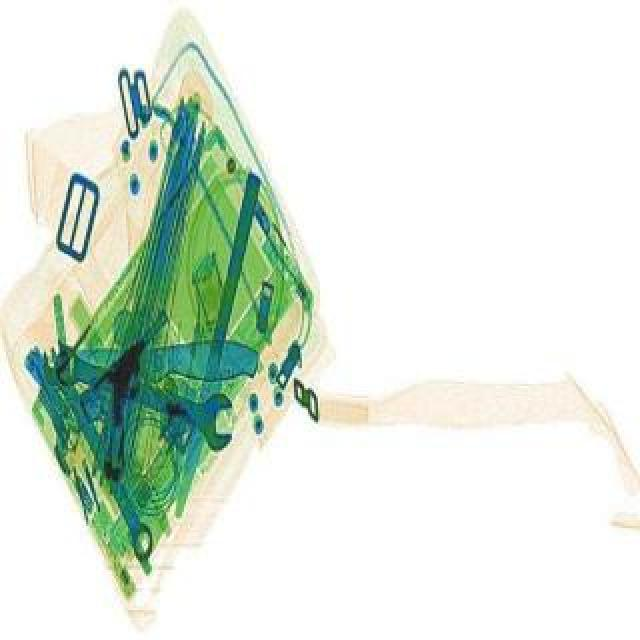gun: (40, 306, 236, 478)
knife: (170, 170, 262, 516), (70, 336, 258, 384)
scissors: (32, 336, 170, 560), (42, 332, 246, 452)
